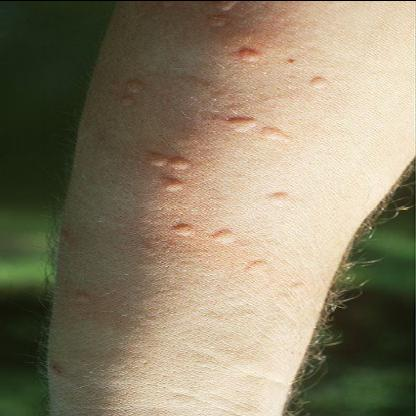Fire ant: (226, 110, 292, 141), (146, 150, 194, 190), (204, 1, 242, 26), (119, 76, 149, 104), (210, 226, 240, 244), (244, 257, 274, 275), (265, 189, 293, 205), (238, 46, 264, 62), (171, 221, 197, 237), (69, 288, 95, 304), (308, 75, 330, 89), (60, 227, 76, 243), (291, 278, 311, 290), (154, 1, 180, 8)
